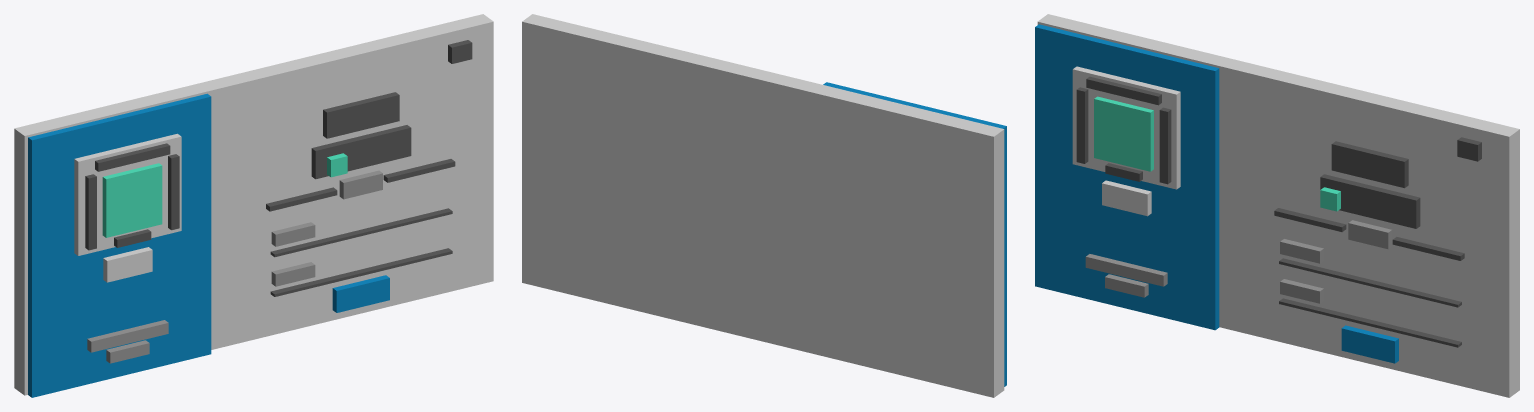
File: iicLogin.glb
The picture shows the model from 3 angles, left to right: view 1: azimuth 30°, elevation 25°; view 2: azimuth 150°, elevation 25°; view 3: azimuth 330°, elevation 25°; orthographic projection.
Parts seen in each view (by area): view 1: Cube.008; view 2: Cube.008; view 3: Cube.008.
Part boxes in pixels (box(x1,y1,x2,y2)): Cube.008: box(14, 14, 493, 397); Cube.008: box(522, 14, 1006, 397); Cube.008: box(1035, 14, 1519, 397).
Size of the model in its own units: 19.87 by 10.51 by 1.69.
